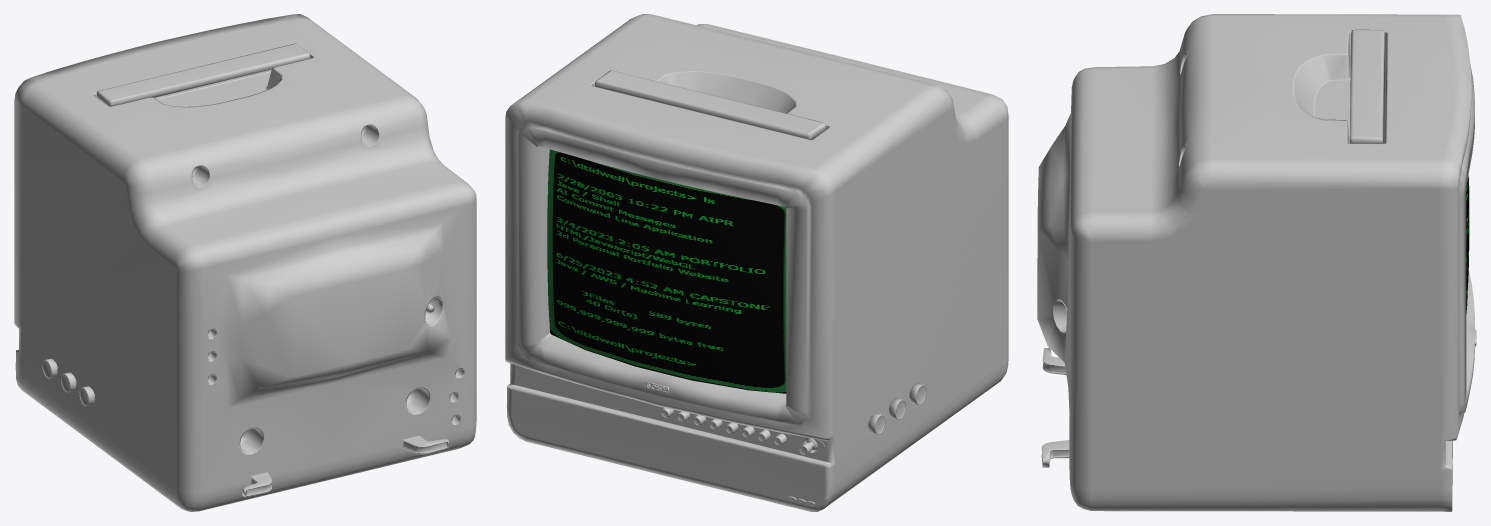
3 views of the same model, side by side, from view 1: azimuth 30°, elevation 25°; view 2: azimuth 150°, elevation 25°; view 3: azimuth 270°, elevation 25° (orthographic). The views are drawn at different scales.
Parts seen in each view (by area): view 1: TV_body_low.001; view 2: TV_body_low.001, TV_body_low.002; view 3: TV_body_low.001.
Boxes of the visible parts, box(x1,y1,x2,y2) form: TV_body_low.001: box(14, 14, 476, 511); TV_body_low.001: box(505, 14, 1008, 511); TV_body_low.002: box(547, 149, 786, 393); TV_body_low.001: box(1037, 14, 1476, 511).
Bounding box in the file's own units: 307 × 313 × 341.
